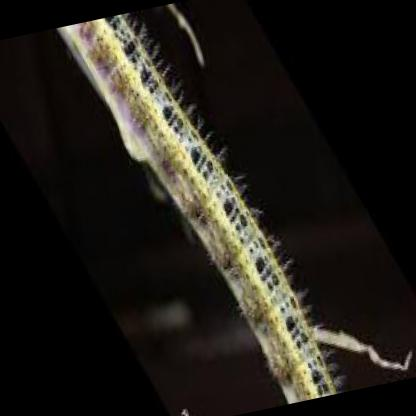pieris: (77, 17, 347, 401)
